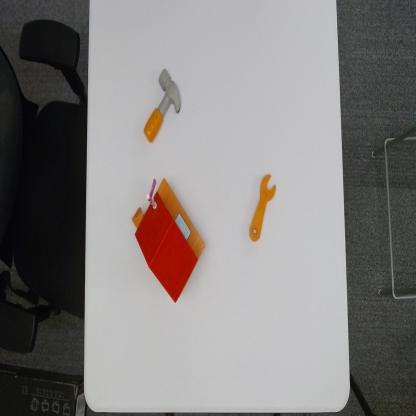Hammer: (142, 68, 182, 145)
House: (130, 173, 207, 306)
Screwdriver: (249, 171, 277, 243)
